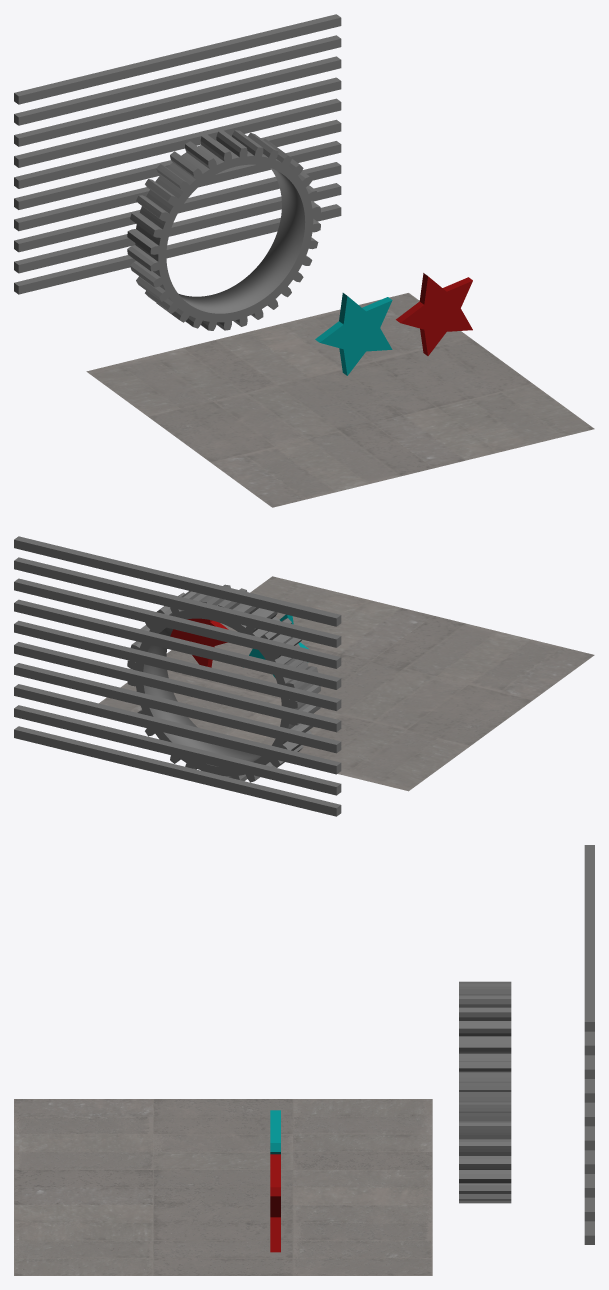
The model's file is Shadow.glb.
3 views of the same model, one above another, from view 1: azimuth 30°, elevation 25°; view 2: azimuth 150°, elevation 25°; view 3: azimuth 270°, elevation 25° (orthographic). The views are drawn at different scales.
Visible parts, largest first — view 1: Blinds, Ground_NoReceiveShadow, Ground, Gear, Star, Star.001; view 2: Blinds, Ground_NoReceiveShadow, Ground, Gear, Star; view 3: Ground, Ground_NoReceiveShadow, Gear, Blinds, Star.
Boxes of the visible parts, <box> form: Blinds: <box>14,14,341,294</box>; Ground_NoReceiveShadow: <box>86,332,433,507</box>; Ground: <box>248,293,594,468</box>; Gear: <box>127,130,320,330</box>; Star: <box>396,273,472,355</box>; Star.001: <box>315,293,392,375</box>; Blinds: <box>14,536,341,816</box>; Ground_NoReceiveShadow: <box>260,615,594,791</box>; Ground: <box>99,576,432,742</box>; Gear: <box>127,584,320,782</box>; Star: <box>170,618,228,667</box>; Ground: <box>14,1187,432,1275</box>; Ground_NoReceiveShadow: <box>14,1099,432,1187</box>; Gear: <box>459,981,511,1203</box>; Blinds: <box>584,845,594,1244</box>; Star: <box>270,1154,280,1252</box>.
Size of what is drawn, in the model's own units: 8 by 5.47 by 11.1.
Materials: 4 (1 with a texture image).
